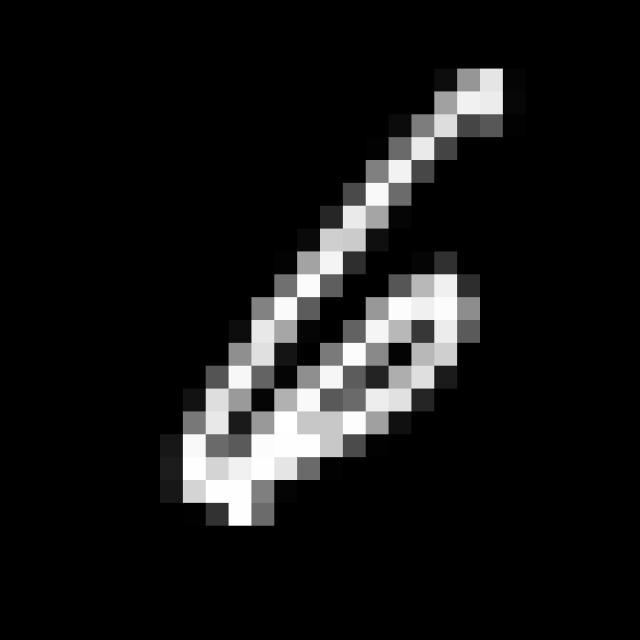six -6-: (174, 69, 514, 525)
